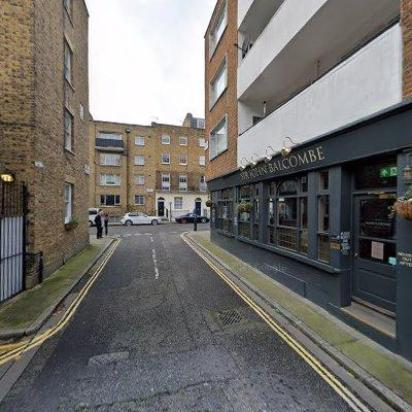stationary-car-onstreet: (120, 210, 162, 226), (176, 211, 208, 225)
stationary-light-truck-onstreet: (86, 204, 102, 228)
